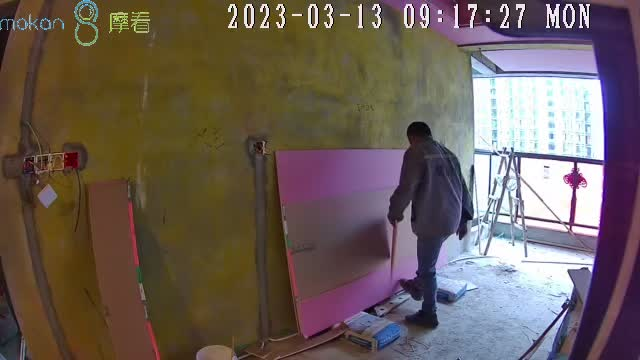people: (388, 121, 475, 326)
window: (472, 70, 604, 233)
